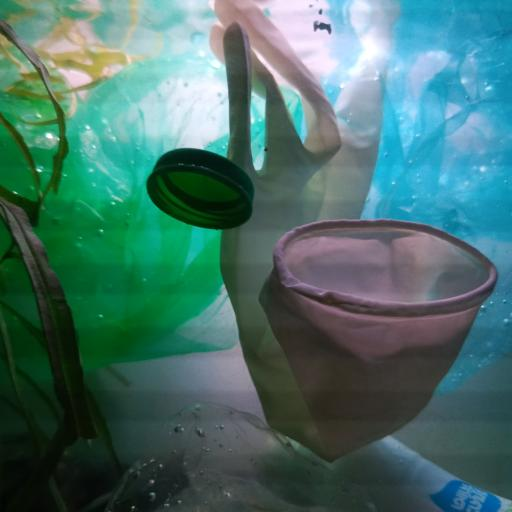bottle_cap: (146, 146, 254, 230)
glove: (208, 0, 499, 462)
plastic_bag: (208, 0, 512, 392), (0, 56, 237, 364), (107, 401, 375, 512)
plastic_bottle: (271, 431, 512, 512)
